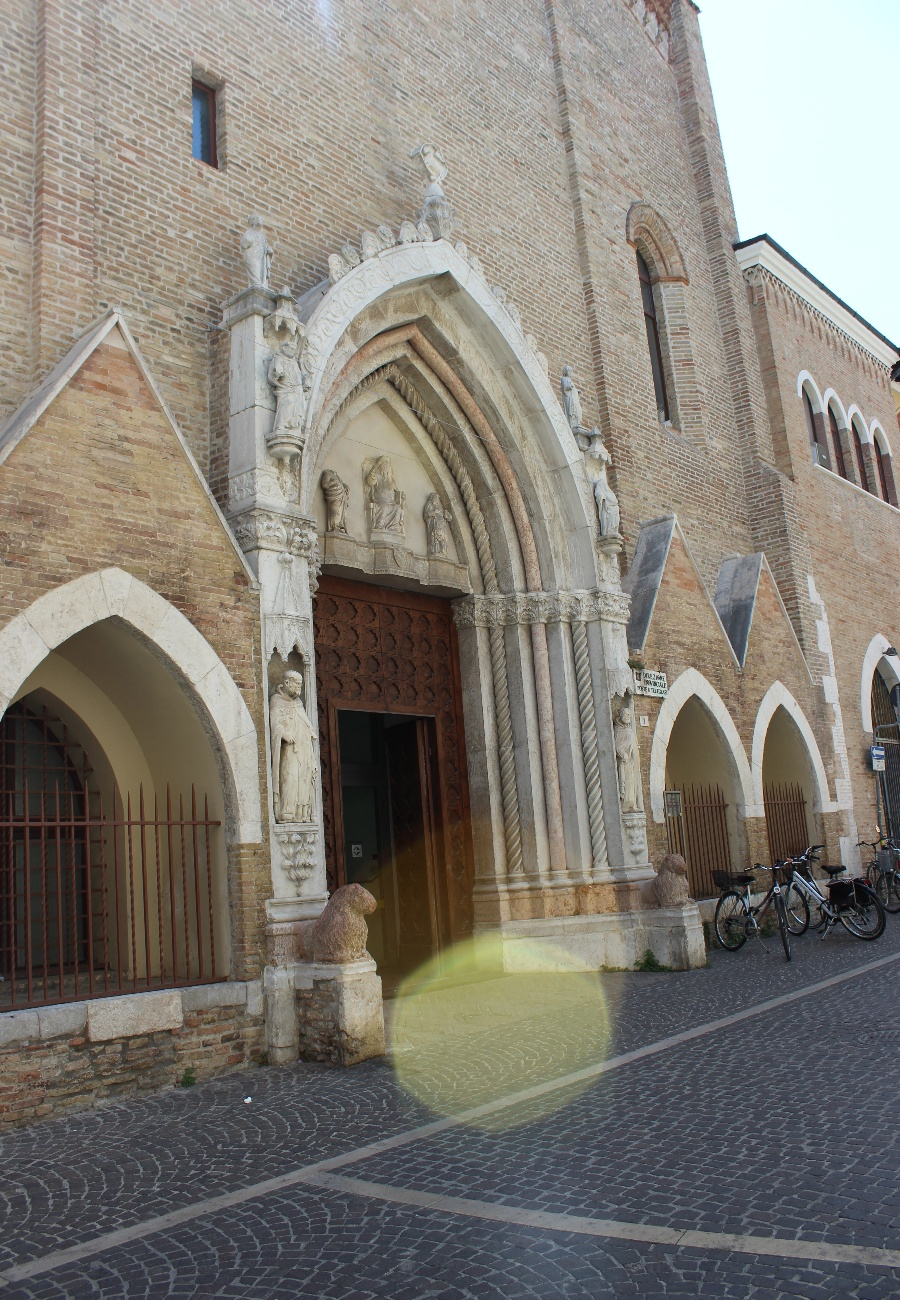Portale San Domenico: (228, 130, 708, 1051)
